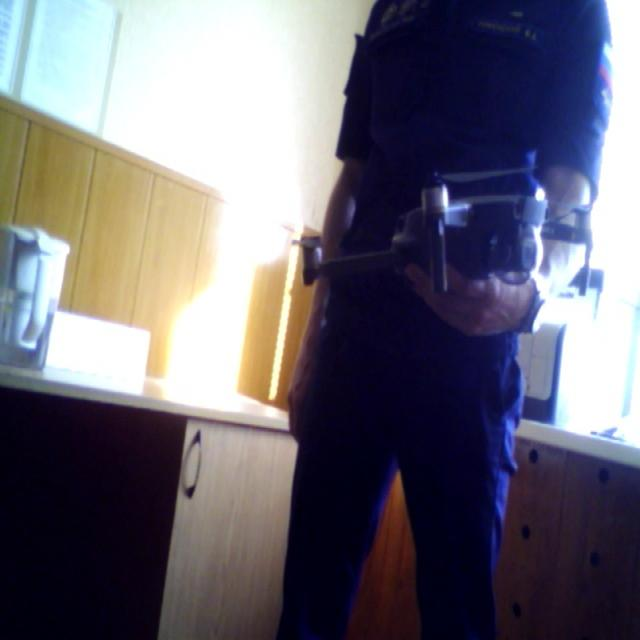drone: (278, 164, 624, 336)
